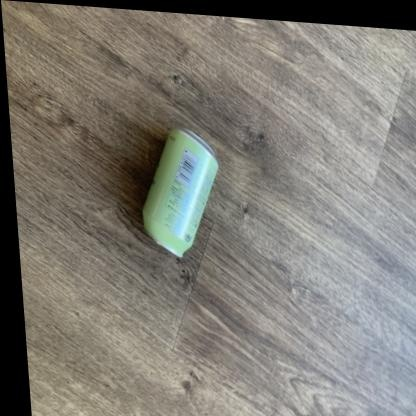trash: (143, 129, 217, 256)
